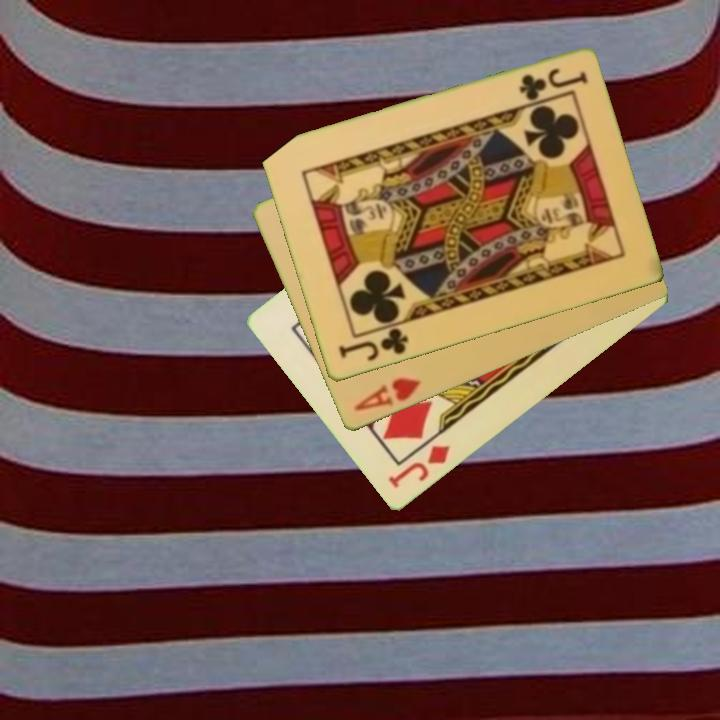Ah: (350, 374, 424, 415)
Jc: (334, 325, 412, 365), (515, 65, 590, 104)
Jd: (384, 442, 453, 492)
